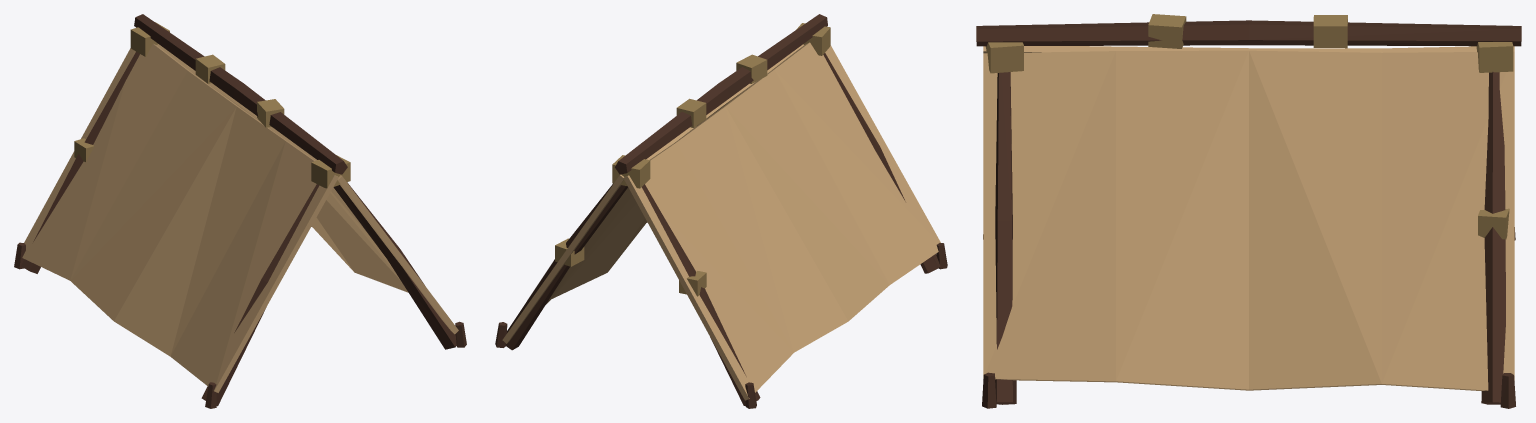
The model's file is CP_CampShelter.fbx.
3 renders of one model, left to right at view 1: azimuth 30°, elevation 25°; view 2: azimuth 150°, elevation 25°; view 3: azimuth 270°, elevation 25°, orthographic. The views are drawn at different scales.
Visible parts, largest first — view 1: CP_CampShelter_Canvas, CP_CampShelter_Poles, CP_CampShelter_Rope; view 2: CP_CampShelter_Canvas, CP_CampShelter_Poles, CP_CampShelter_Rope; view 3: CP_CampShelter_Canvas, CP_CampShelter_Poles, CP_CampShelter_Rope.
Boxes of the visible parts, x1,y1,x2,y2 form: CP_CampShelter_Canvas: (22, 44, 458, 392); CP_CampShelter_Poles: (14, 14, 466, 408); CP_CampShelter_Rope: (74, 22, 350, 188); CP_CampShelter_Canvas: (502, 42, 940, 400); CP_CampShelter_Poles: (495, 14, 947, 408); CP_CampShelter_Rope: (555, 23, 830, 296); CP_CampShelter_Canvas: (983, 46, 1514, 390); CP_CampShelter_Poles: (976, 20, 1521, 408); CP_CampShelter_Rope: (985, 14, 1513, 239).
Bounding box in the file's own units: 6 × 5 × 8.
